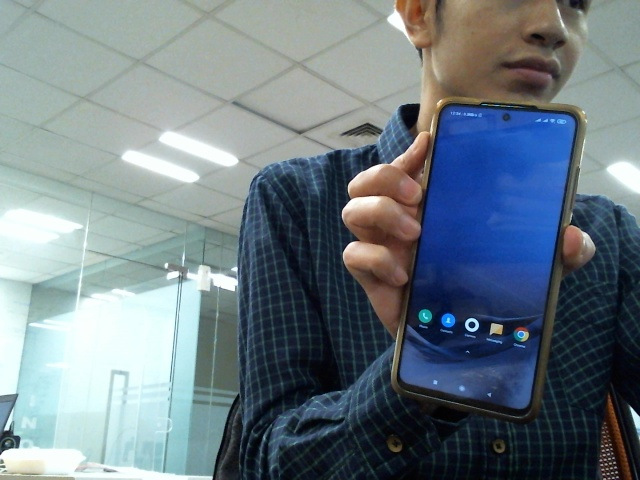handphone: (389, 97, 588, 426)
